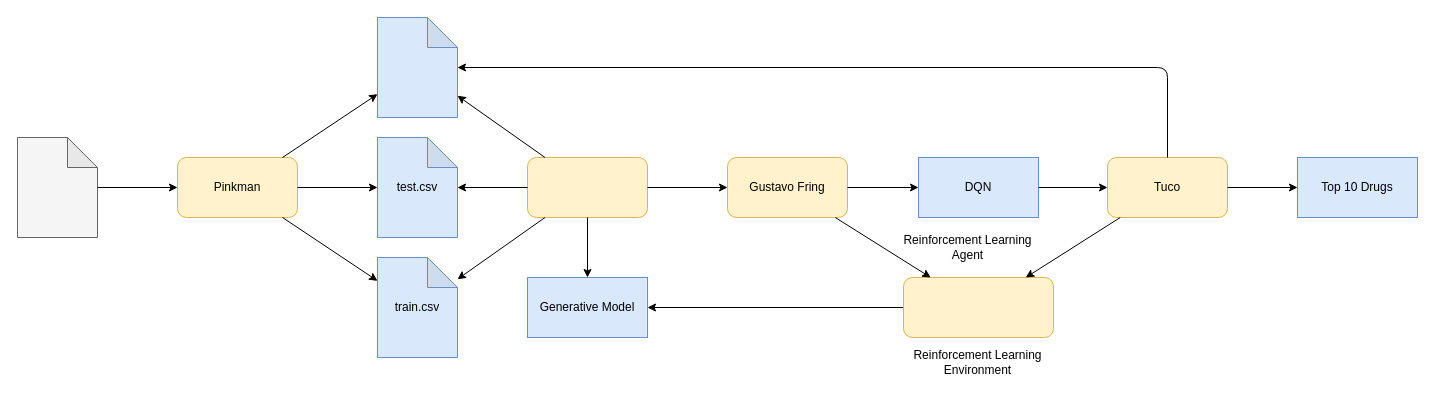
Image size: 1435x394. Some labels were removed from this diagram. The centre of each missing label's shape, as x and y in pixels:
"dictionary.csv" belongs at (417,67).
"Los Pollos Hermanos" belongs at (978,307).
"moses.csv" belongs at (57,187).
"Walter White" belongs at (587,187).
